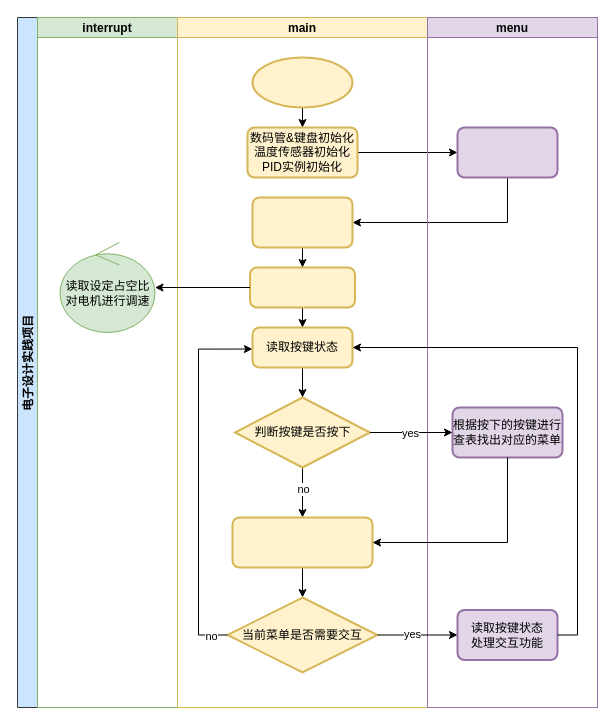
This 615x725 diagram has some shape labels left out. The shapes that lost their labels are listed below. From the top down, each one's centre as x and y in pixels, then its label:
point 302,82: start
point 507,152: 菜单初始化，显示默认开始菜单
point 302,222: 读取EEPROM中保存的配置参数
point 302,287: 定时器0初始化 用于PWM电机调速
point 302,542: 判断当前处于哪个菜单 刷新对应的菜单
